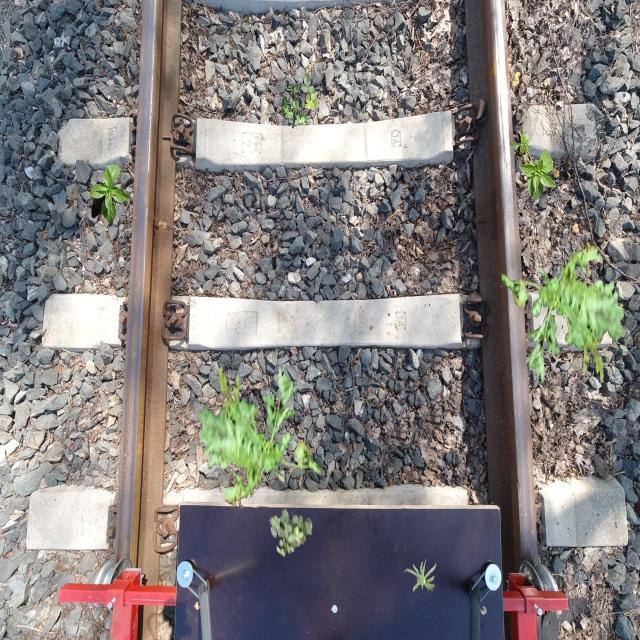Plant: (197, 363, 322, 510), (502, 239, 627, 386), (509, 131, 557, 202), (89, 165, 131, 225), (269, 508, 312, 558), (282, 74, 320, 129), (404, 558, 436, 592)
